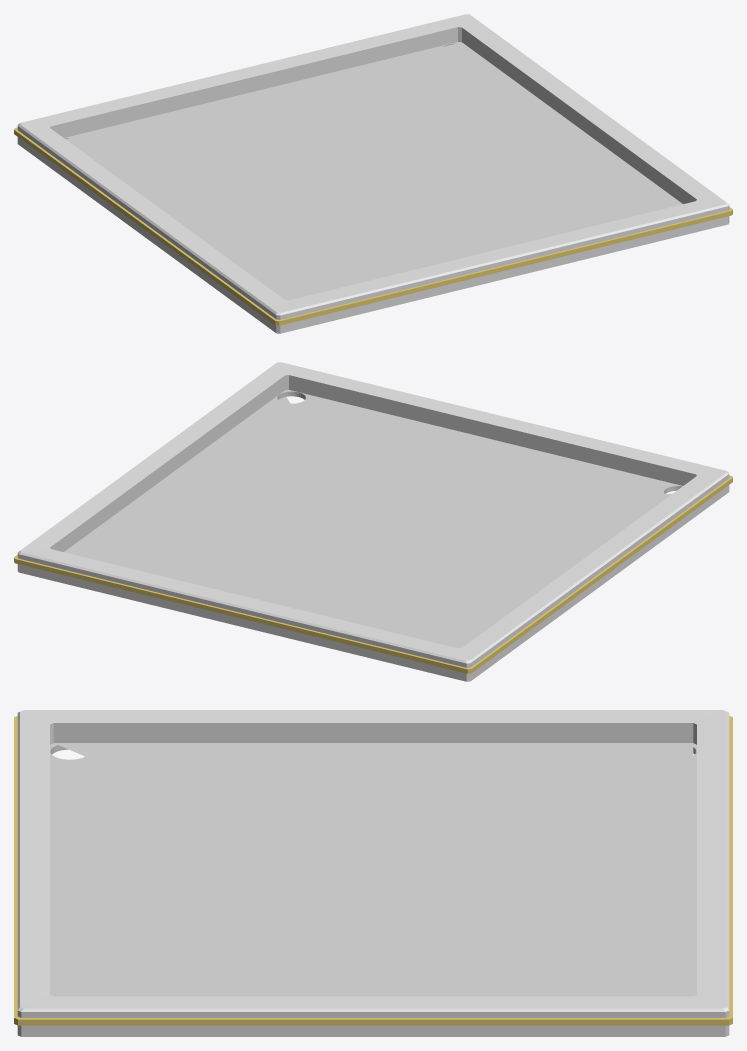
Rendered from Carromboard 3D.fbx.
3 views of the same model, one above another, from view 1: azimuth 30°, elevation 25°; view 2: azimuth 150°, elevation 25°; view 3: azimuth 270°, elevation 25° (orthographic). The views are drawn at different scales.
Visible parts, largest first — view 1: Pocketed Board; view 2: Pocketed Board; view 3: Pocketed Board.
Part boxes in pixels (left/top/right/bottom): Pocketed Board: left=14, top=14, right=732, bottom=333; Pocketed Board: left=14, top=362, right=732, bottom=681; Pocketed Board: left=14, top=710, right=732, bottom=1036.
Bounding box in the file's own units: 82.21 × 3.42 × 82.21.
